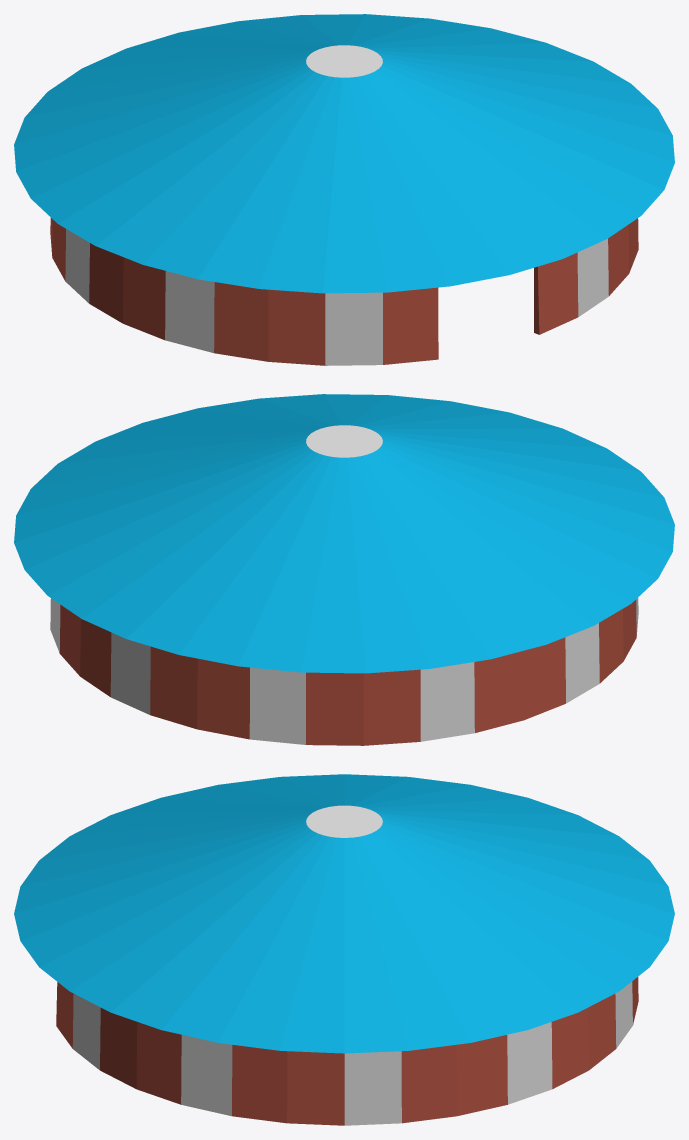
The model's file is room.fbx.
3 renders of one model, top to bottom at view 1: azimuth 30°, elevation 25°; view 2: azimuth 150°, elevation 25°; view 3: azimuth 270°, elevation 25°, orthographic.
Parts seen in each view (by area): view 1: room; view 2: room; view 3: room.
Boxes of the visible parts, box(x1,y1,x2,y2) form: room: box(14, 14, 674, 365); room: box(14, 394, 674, 745); room: box(14, 774, 674, 1125).
Size of the model in its own units: 1650 by 495 by 1650.
